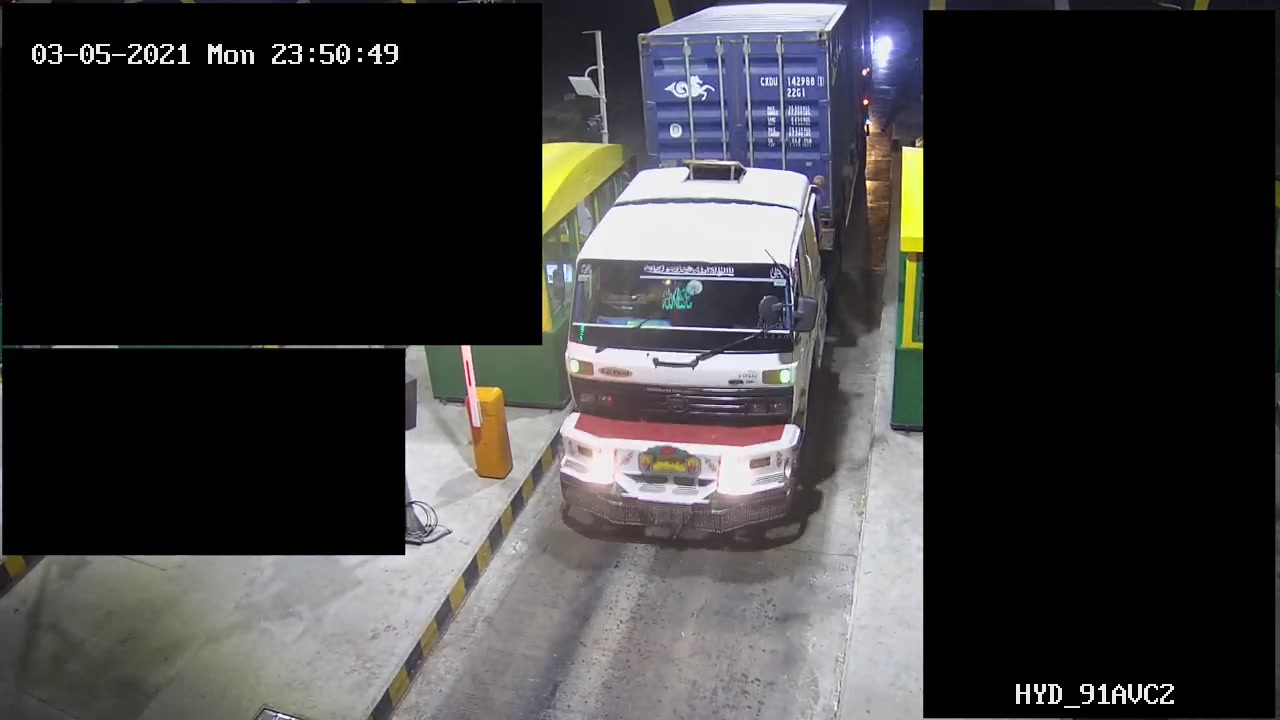F6: (542, 1, 866, 545)
